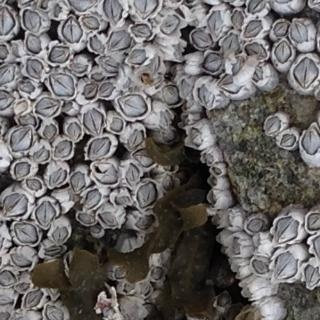Barnacle: (131, 0, 159, 38), (116, 93, 149, 118), (293, 57, 318, 88), (274, 251, 300, 280), (49, 73, 76, 99), (3, 193, 28, 220), (93, 163, 120, 187), (10, 128, 33, 156), (275, 217, 299, 243), (83, 108, 105, 136), (63, 14, 82, 45), (33, 201, 54, 228), (301, 127, 320, 156), (218, 75, 245, 95), (89, 139, 112, 162), (14, 223, 38, 245), (109, 27, 130, 52), (132, 150, 156, 171), (35, 98, 60, 118), (206, 9, 223, 38), (202, 51, 223, 74), (21, 8, 42, 31), (221, 32, 241, 55), (274, 39, 292, 64), (0, 7, 15, 37), (24, 57, 45, 78), (104, 0, 124, 22), (69, 0, 98, 15), (12, 160, 31, 181), (48, 47, 70, 65), (245, 42, 267, 60), (161, 15, 179, 37), (305, 263, 320, 289), (53, 141, 73, 160), (128, 49, 148, 68), (162, 86, 180, 107), (191, 30, 212, 48), (23, 290, 45, 307), (291, 20, 308, 41), (244, 20, 263, 38), (71, 171, 87, 192), (49, 168, 65, 189), (0, 65, 16, 86), (126, 163, 141, 185), (253, 257, 271, 275), (24, 35, 42, 53), (52, 225, 69, 244), (246, 0, 267, 15), (18, 80, 36, 97), (99, 212, 118, 228), (198, 84, 211, 107), (81, 84, 98, 101), (102, 56, 119, 73), (128, 128, 144, 146), (273, 21, 291, 37), (44, 122, 59, 141), (0, 90, 14, 110), (246, 216, 263, 232), (11, 254, 30, 268), (189, 127, 203, 146), (159, 109, 173, 128), (89, 34, 103, 53), (0, 270, 16, 286), (45, 305, 62, 320), (34, 148, 51, 163), (67, 123, 82, 140), (266, 117, 281, 134), (252, 64, 267, 81), (136, 215, 154, 229), (18, 114, 36, 128), (84, 15, 102, 29), (232, 55, 245, 74), (25, 178, 42, 192), (307, 213, 320, 231), (78, 212, 94, 226), (45, 245, 63, 257), (232, 11, 244, 29), (280, 134, 295, 148), (100, 83, 115, 97), (232, 236, 242, 256), (73, 60, 87, 74), (180, 79, 192, 95), (14, 101, 27, 114), (0, 292, 13, 304), (140, 284, 151, 297), (91, 69, 104, 80), (218, 293, 228, 307), (244, 281, 254, 295), (0, 46, 10, 60), (234, 260, 242, 276), (226, 210, 234, 226), (152, 267, 163, 278), (210, 190, 218, 204), (124, 283, 135, 293), (19, 281, 30, 291), (116, 268, 127, 278), (203, 153, 213, 164), (212, 166, 223, 175), (214, 215, 222, 226), (92, 224, 101, 233), (209, 178, 218, 186), (184, 102, 193, 110), (219, 232, 224, 245), (183, 116, 191, 124)
